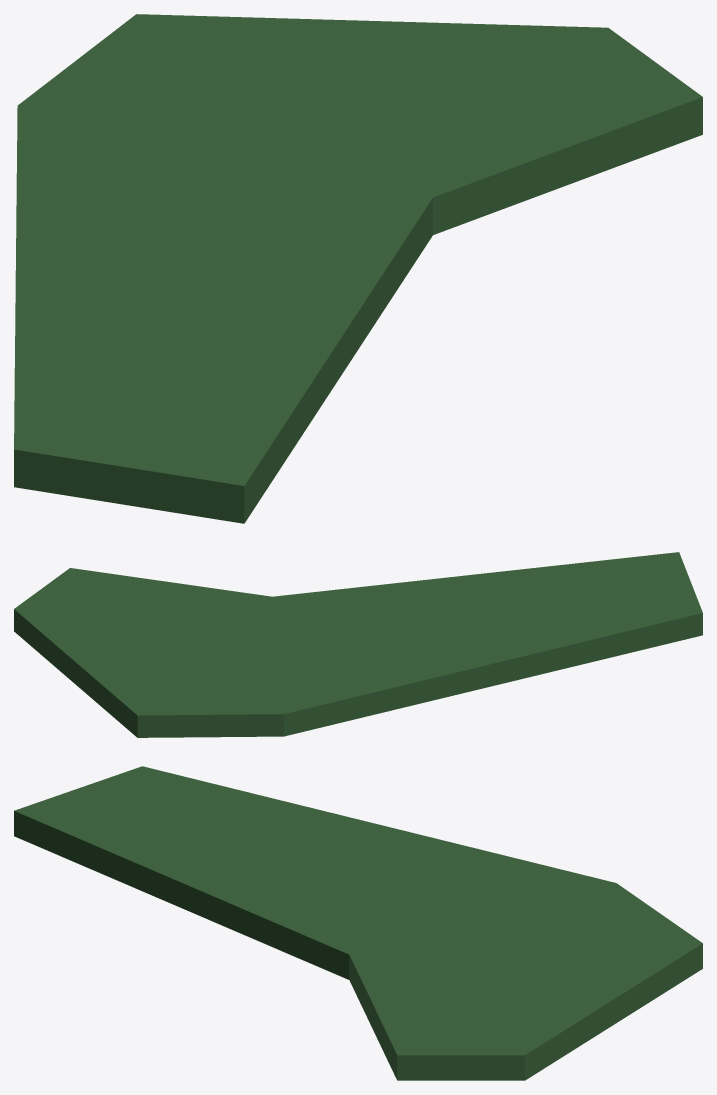
File: x_proval_00_92_1_rmstrd.fbx
The picture shows the model from 3 angles, top to bottom: view 1: azimuth 30°, elevation 25°; view 2: azimuth 150°, elevation 25°; view 3: azimuth 270°, elevation 25°; orthographic projection. The views are drawn at different scales.
Parts seen in each view (by area): view 1: x_proval_00_92_1_rmstrd1; view 2: x_proval_00_92_1_rmstrd1; view 3: x_proval_00_92_1_rmstrd1.
Part boxes in pixels (box(x1,y1,x2,y2)): x_proval_00_92_1_rmstrd1: box(14, 14, 702, 523); x_proval_00_92_1_rmstrd1: box(14, 552, 702, 737); x_proval_00_92_1_rmstrd1: box(14, 766, 702, 1080).
Bounding box in the file's own units: 4.86 × 0.2 × 4.9.
